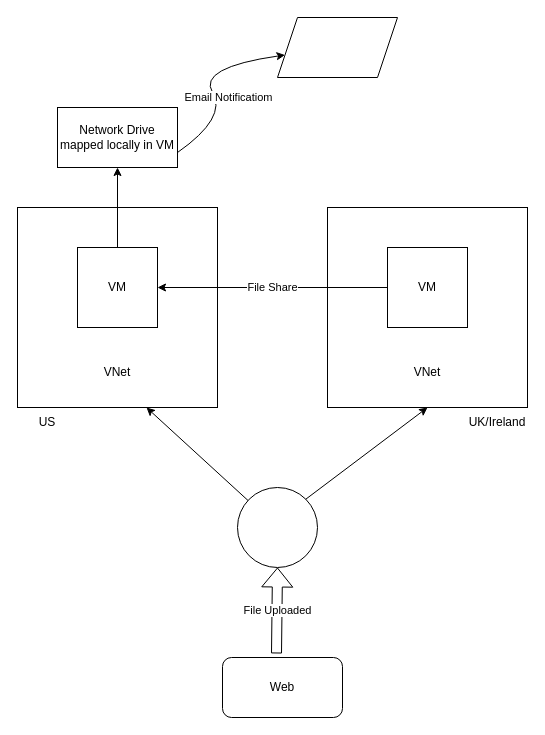
Image size: 545x735. Some labels were removed from this diagram. Here are the shapes that lost their labels. From the top down, the box of each, then its label:
(276, 16, 398, 78): Azure Function
(236, 486, 318, 568): Appliction Gateway
